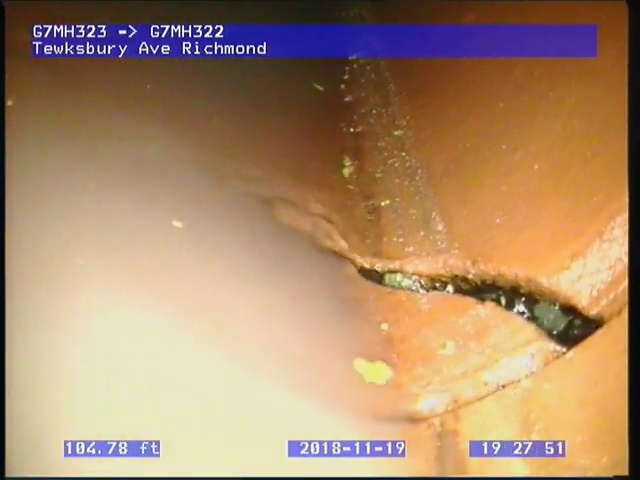crack: (316, 244, 620, 356)
